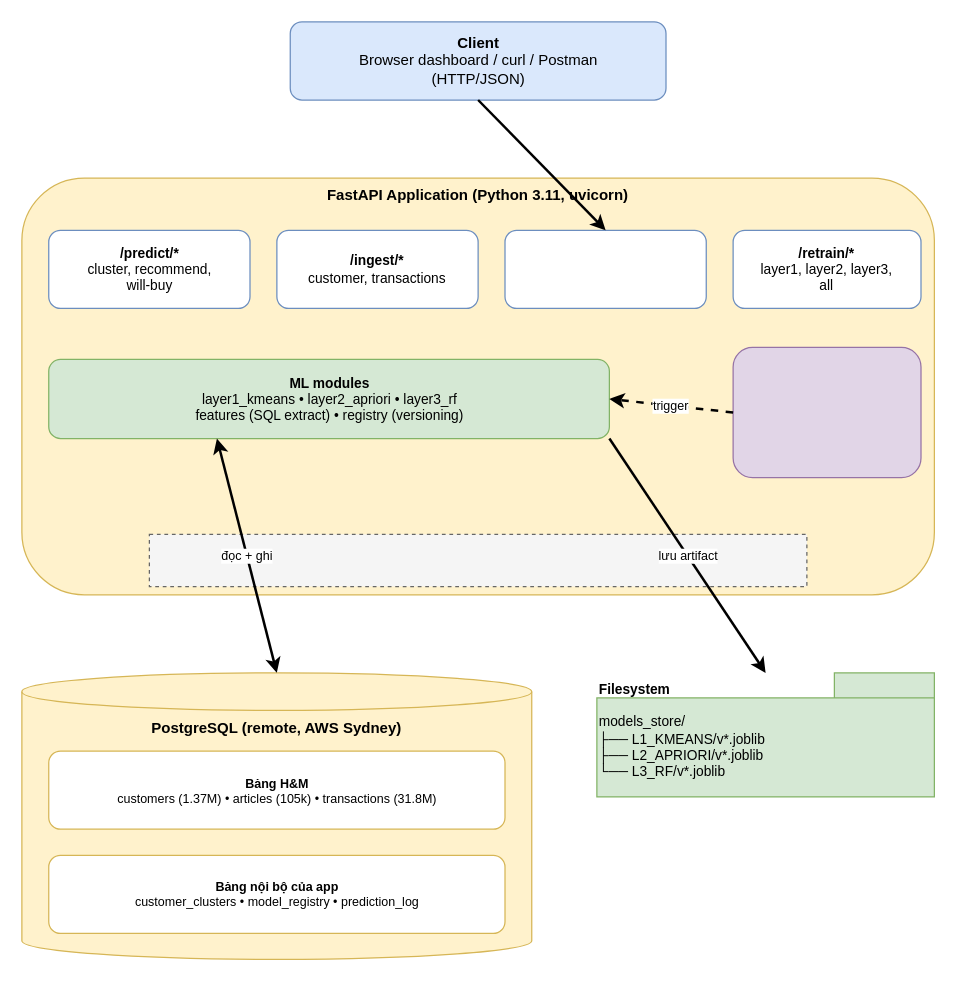
Some shapes in this 956 by 981 pixel diagram are drawn without their labels. Each missing label, with the centre of its shape:
/metrics/* summary, models, customers: (x=605, y=268)
APScheduler Cron jobs: L1+L2: Sun 02–03h L3: daily 01h: (x=826, y=412)
SQLAlchemy 2.0 + psycopg2 (connection pool): (x=477, y=559)
